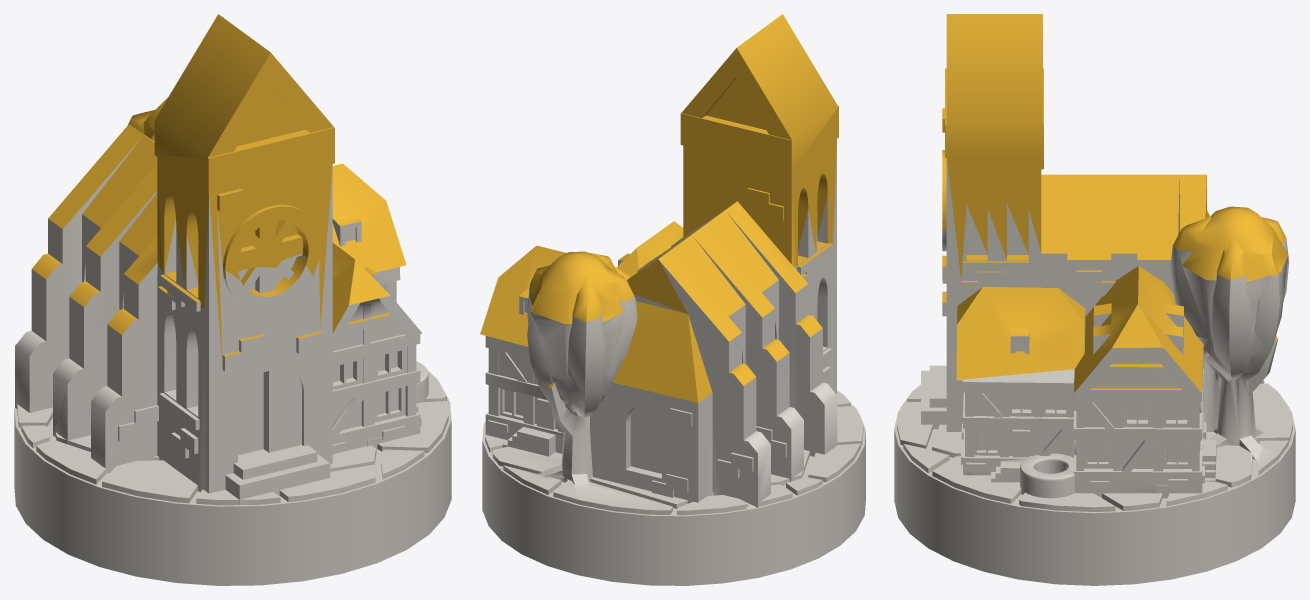
Rendered from pueblo.glb.
3 renders of one model, left to right at view 1: azimuth 30°, elevation 25°; view 2: azimuth 150°, elevation 25°; view 3: azimuth 270°, elevation 25°, orthographic. The views are drawn at different scales.
Parts seen in each view (by area): view 1: Walls, Roof; view 2: Walls, Roof; view 3: Walls, Roof.
Part boxes in pixels (bbox=[...]): Walls: bbox=[14, 138, 451, 585]; Roof: bbox=[32, 14, 406, 365]; Walls: bbox=[482, 144, 865, 585]; Roof: bbox=[480, 14, 838, 402]; Walls: bbox=[894, 158, 1295, 585]; Roof: bbox=[942, 14, 1288, 392].
Bounding box in the file's own units: 15 × 19.3 × 15.
